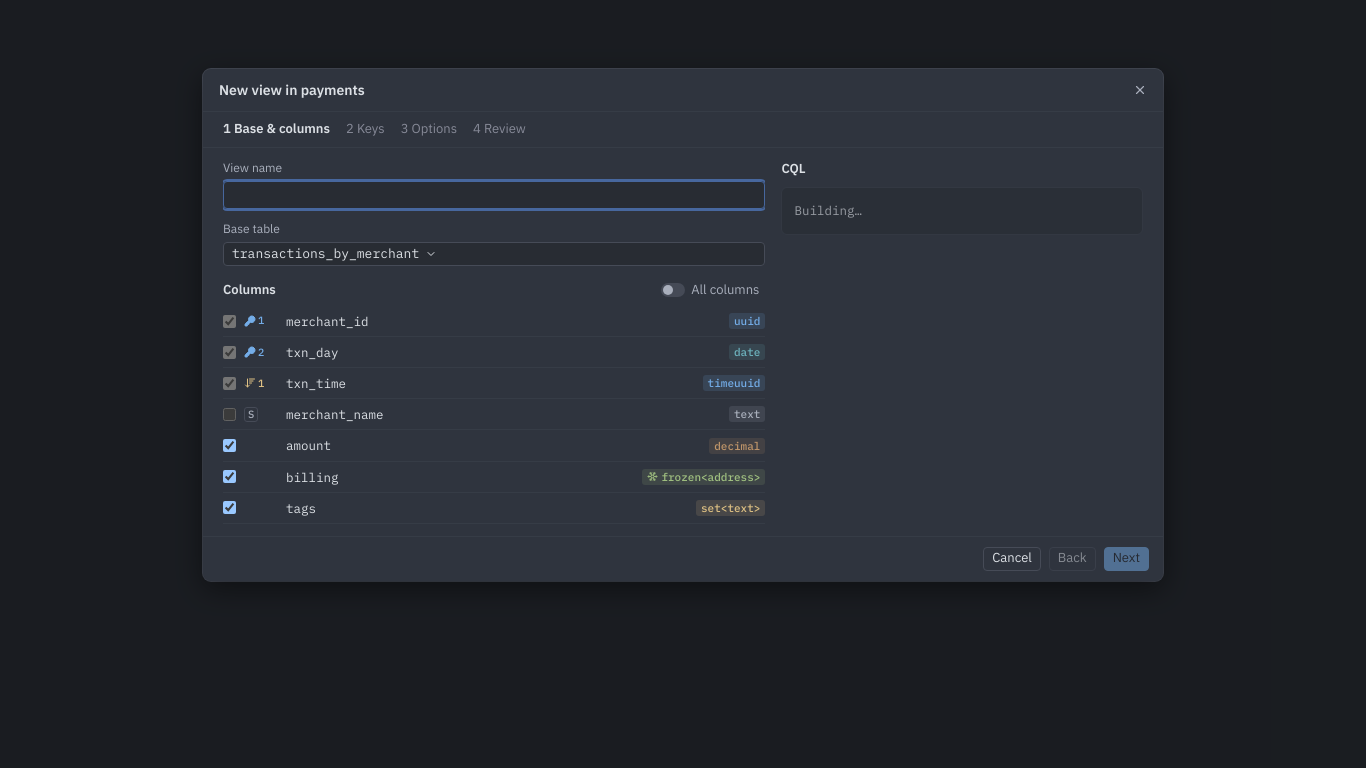
NewViewWizard › stays on Review and shows the server message when Create fails
Type "v" into the field labelled "View name" at (494, 195), box 223,181 -> 765,209
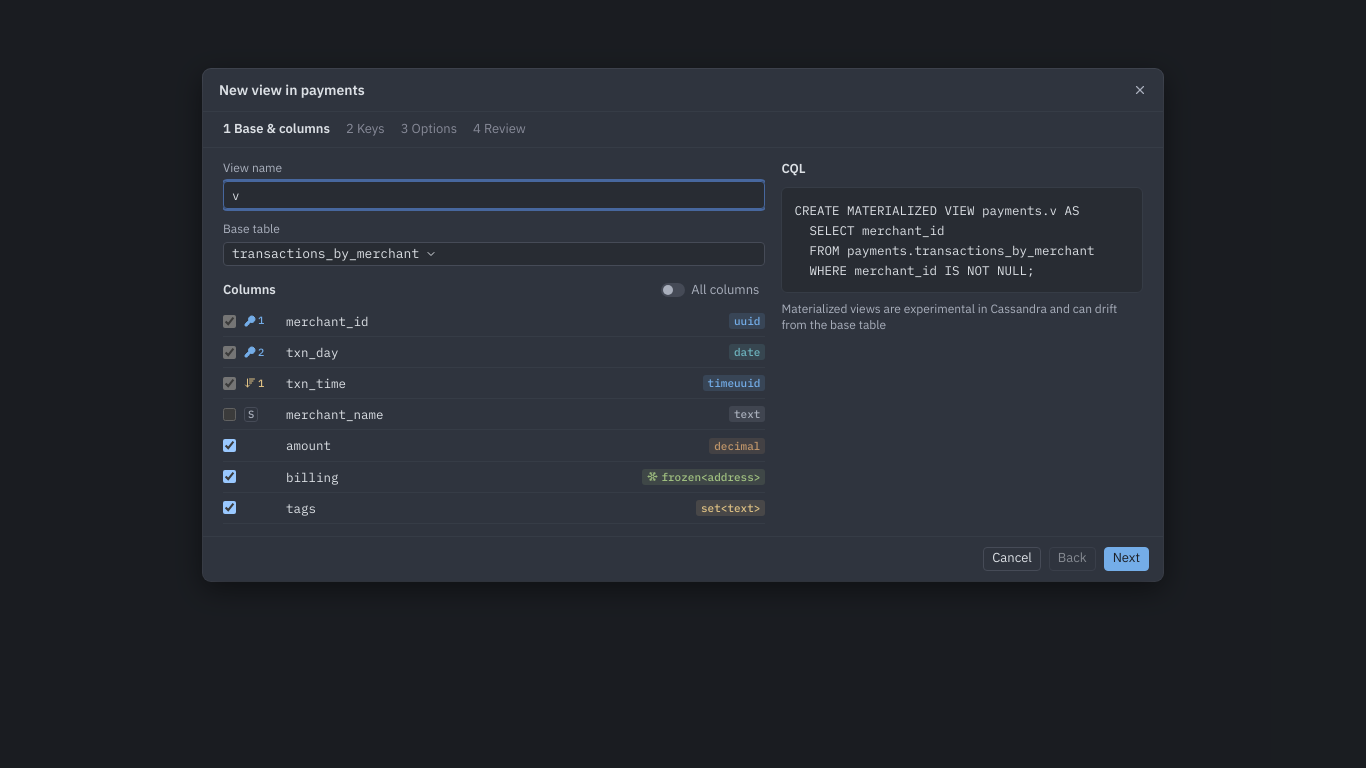
Result: the button "Next" is enabled
Click the button "Next" at (1126, 559), box 1104,547 -> 1149,571
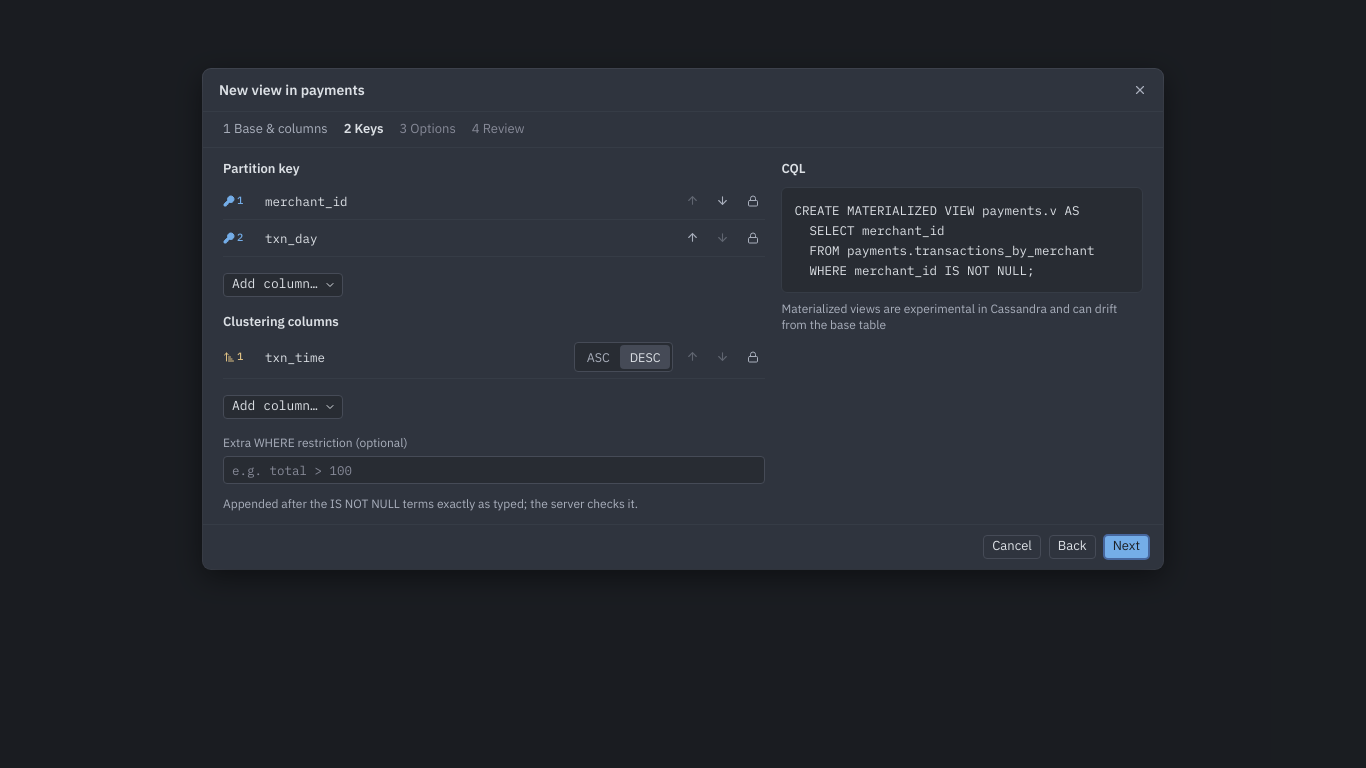
Click the button "Next" at (1126, 547), box 1104,535 -> 1149,559
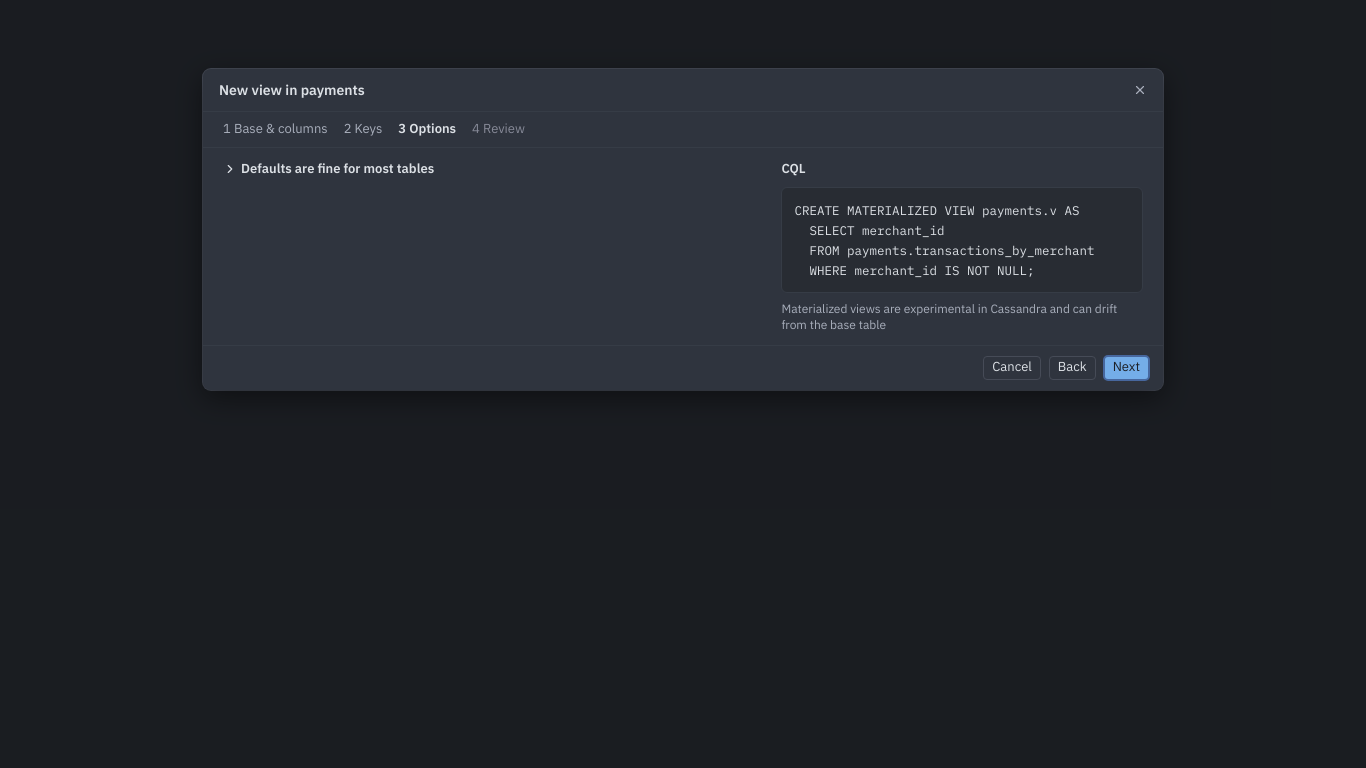
Click the button "Next" at (1126, 368), box 1104,356 -> 1149,380
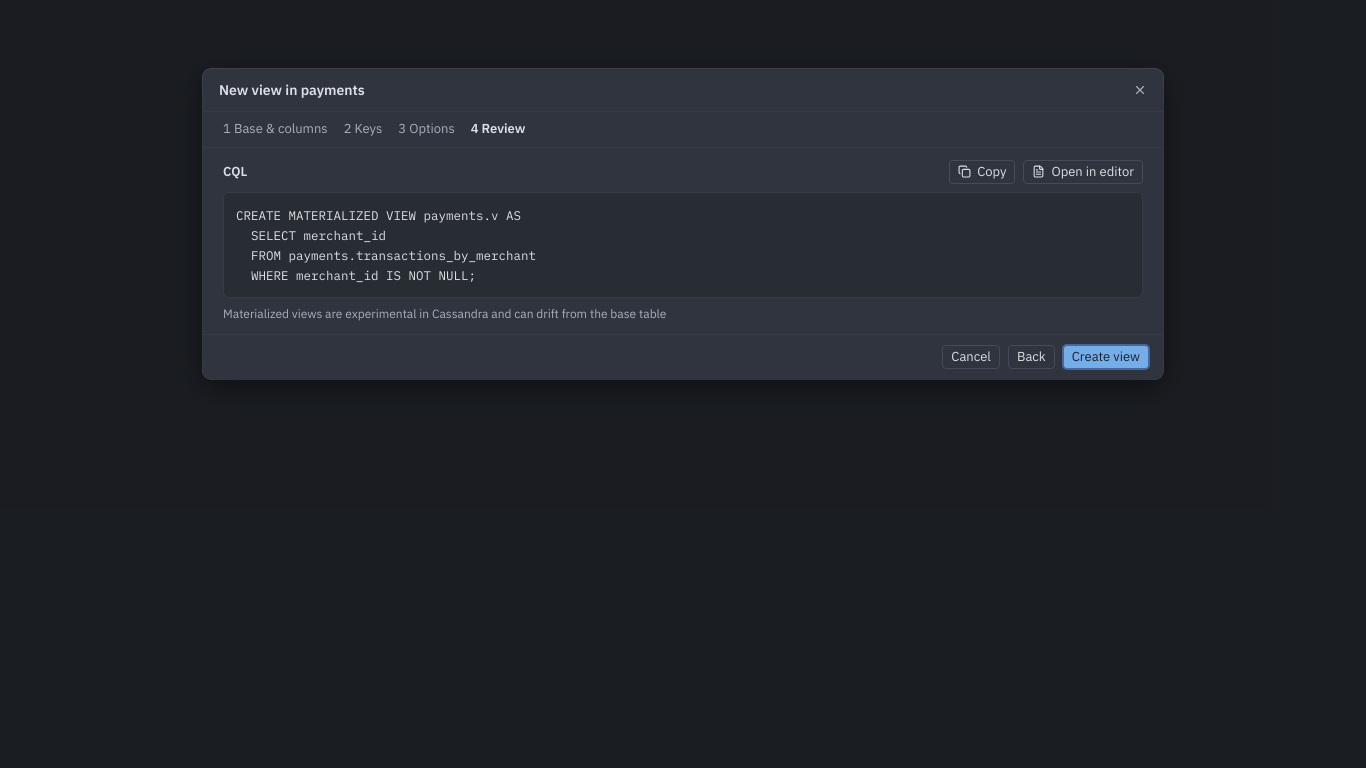
Result: the button "Create view" is enabled
Click the button "Create view" at (1106, 357), box 1063,345 -> 1149,369
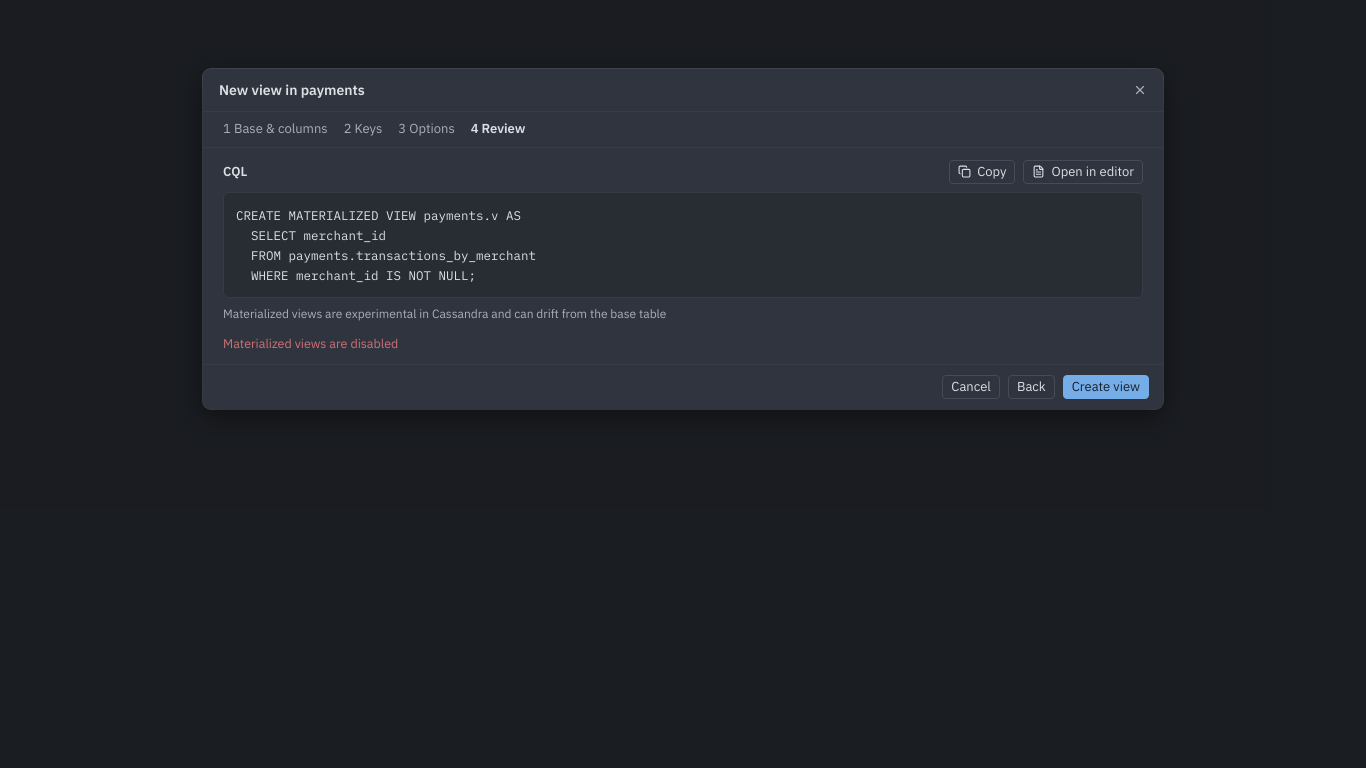
Result: the button "Create view" is shown at 1063,375 -> 1149,399
Result: the message reads "Materialized views are disabled" at 223,335 -> 398,351
